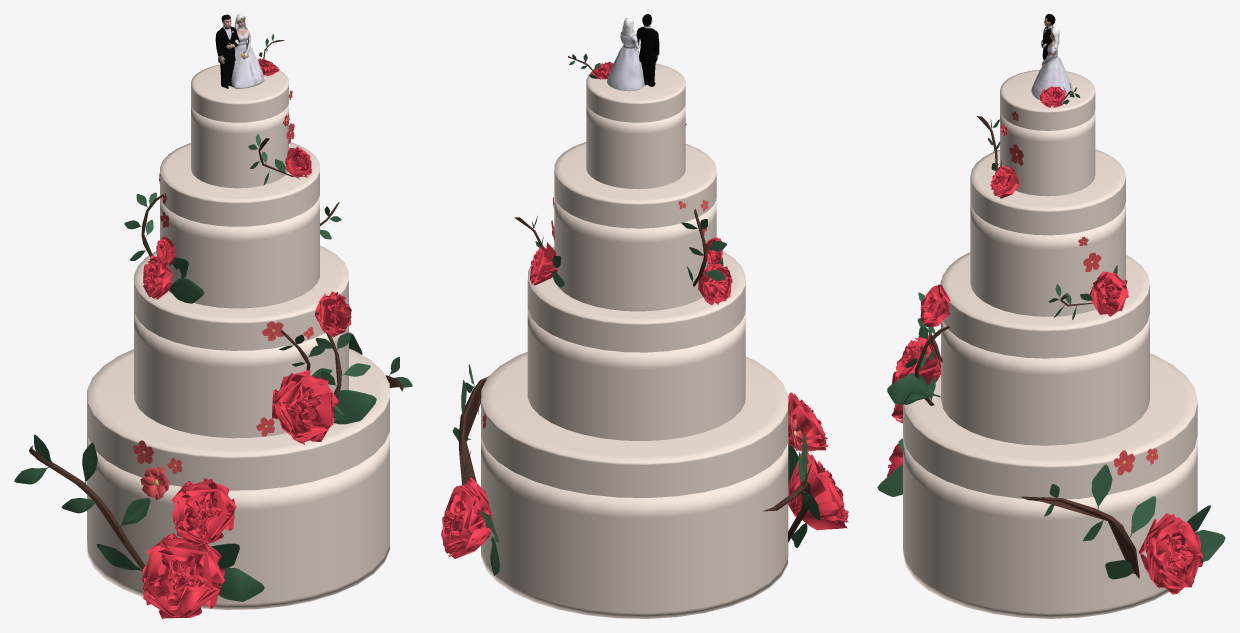
The model's file is 4-tier-white-roses-bridegroom.glb.
3 views of the same model, side by side, from view 1: azimuth 30°, elevation 25°; view 2: azimuth 150°, elevation 25°; view 3: azimuth 270°, elevation 25° (orthographic).
Visible parts, largest first — view 1: 3.001, 3, 2, 1, grid.013, Plane.024, grid.016, grid.012, 13501_Cake_Topper_Bride_Groom_v1_L1.001, grid.015, Plane.009, Plane.022 (+7 smaller); view 2: 3.001, 3, 2, 1, grid.020, 13501_Cake_Topper_Bride_Groom_v1_L1.001, grid.013, Plane.008, Plane.024, grid.012, grid.017, Plane.023 (+1 smaller); view 3: 3.001, 3, 2, 1, grid.020, Plane.008, 13501_Cake_Topper_Bride_Groom_v1_L1.001, grid.016, grid.019, Plane.009, grid.015, grid.021 (+3 smaller).
Part boxes in pixels (bbox=[...]): 3.001: bbox=[87, 348, 389, 609]; 3: bbox=[134, 245, 348, 438]; 2: bbox=[160, 142, 319, 308]; 1: bbox=[191, 64, 288, 188]; grid.013: bbox=[142, 533, 225, 618]; Plane.024: bbox=[14, 434, 150, 570]; grid.016: bbox=[272, 370, 338, 444]; grid.012: bbox=[171, 478, 236, 547]; 13501_Cake_Topper_Bride_Groom_v1_L1.001: bbox=[215, 14, 264, 88]; grid.015: bbox=[315, 291, 351, 337]; Plane.009: bbox=[333, 390, 376, 424]; Plane.022: bbox=[218, 568, 264, 601]; 3.001: bbox=[481, 352, 788, 618]; 3: bbox=[527, 247, 745, 441]; 2: bbox=[554, 142, 716, 311]; 1: bbox=[586, 63, 685, 189]; grid.020: bbox=[441, 477, 493, 558]; 13501_Cake_Topper_Bride_Groom_v1_L1.001: bbox=[607, 14, 659, 91]; grid.013: bbox=[788, 452, 848, 530]; Plane.008: bbox=[452, 364, 488, 485]; Plane.024: bbox=[762, 433, 820, 547]; grid.012: bbox=[788, 392, 828, 451]; grid.017: bbox=[698, 263, 732, 305]; Plane.023: bbox=[681, 209, 726, 286]; 3.001: bbox=[903, 353, 1197, 618]; 3: bbox=[941, 252, 1149, 445]; 2: bbox=[970, 149, 1125, 316]; 1: bbox=[1000, 70, 1095, 196]; grid.020: bbox=[1138, 513, 1202, 594]; Plane.008: bbox=[1021, 464, 1156, 579]; 13501_Cake_Topper_Bride_Groom_v1_L1.001: bbox=[1031, 14, 1072, 99]; grid.016: bbox=[892, 331, 941, 384]; grid.019: bbox=[1089, 271, 1128, 316]; Plane.009: bbox=[887, 373, 940, 404]; grid.015: bbox=[920, 284, 950, 326]; grid.021: bbox=[990, 165, 1019, 198].
Size of the model in its own units: 6.25 by 8.54 by 5.05.
Materials: 7 (1 with a texture image).
